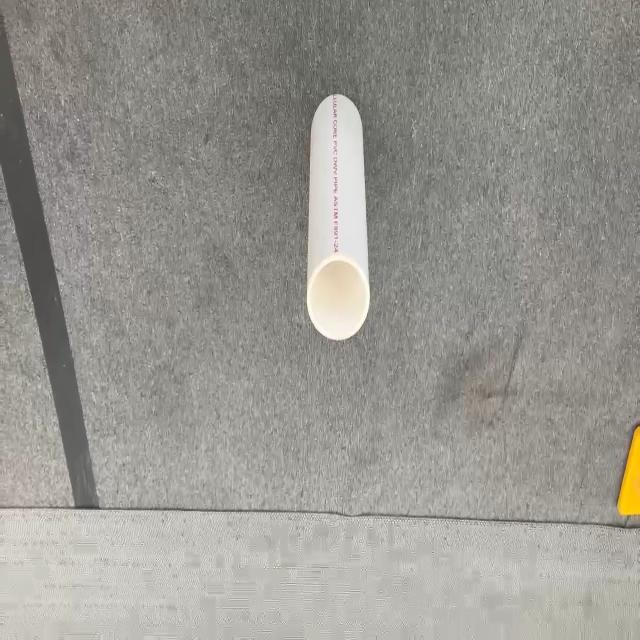coral: (305, 92, 371, 340)
